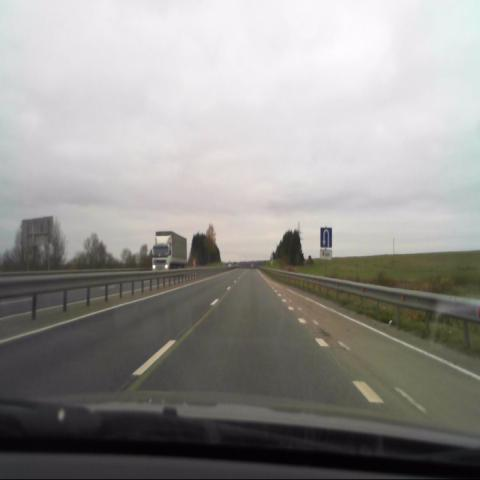6_3_1: (320, 227, 331, 247)
